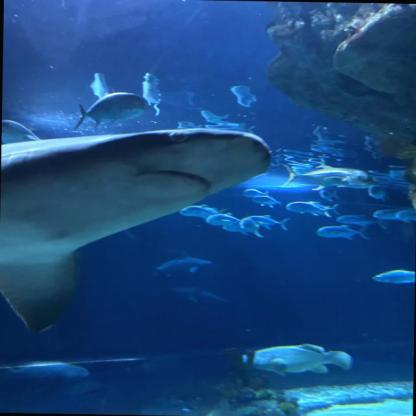fish: (242, 343, 350, 379), (73, 89, 145, 132), (0, 359, 90, 392), (280, 164, 376, 192), (2, 118, 40, 146), (371, 269, 414, 288), (316, 225, 370, 240), (336, 214, 388, 229), (245, 215, 290, 231), (286, 201, 332, 216), (178, 204, 228, 217), (204, 212, 240, 227), (239, 218, 265, 238), (308, 202, 340, 215), (251, 195, 282, 208), (368, 184, 388, 200), (372, 208, 398, 220), (242, 188, 270, 199), (394, 209, 416, 222), (318, 190, 338, 201)
shark: (0, 121, 271, 339), (152, 249, 214, 278), (166, 284, 230, 306)
